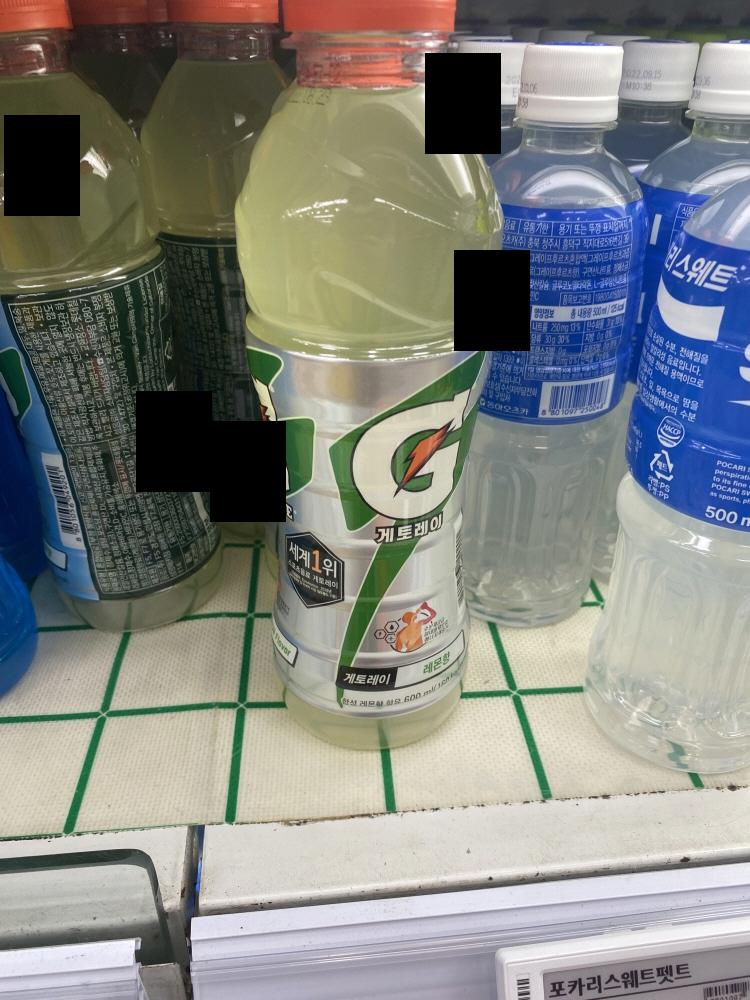gatorade_lemon: (236, 0, 489, 758)
